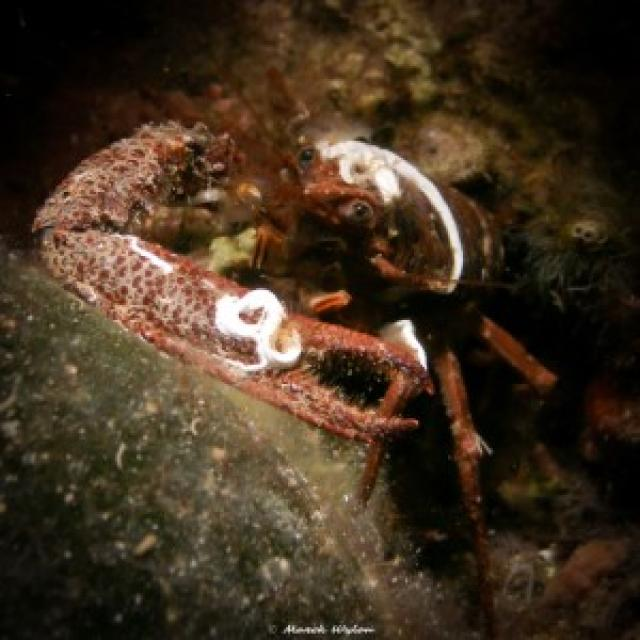lobsters: (12, 46, 543, 492)
